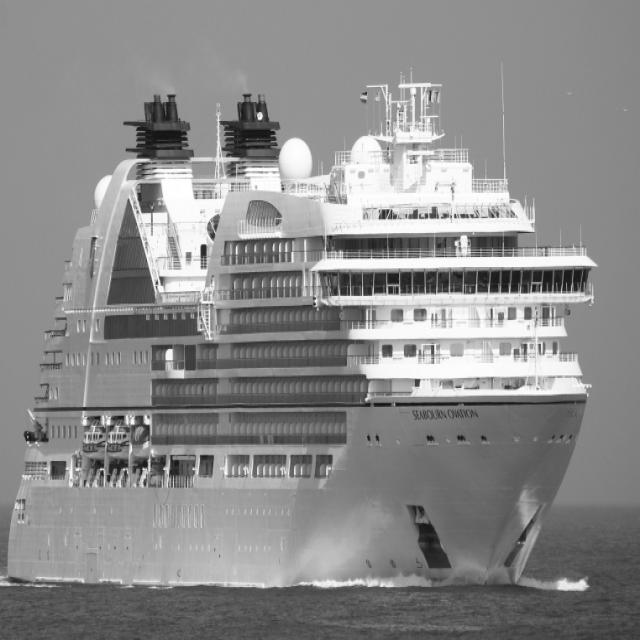cruises: (1, 67, 603, 603)
